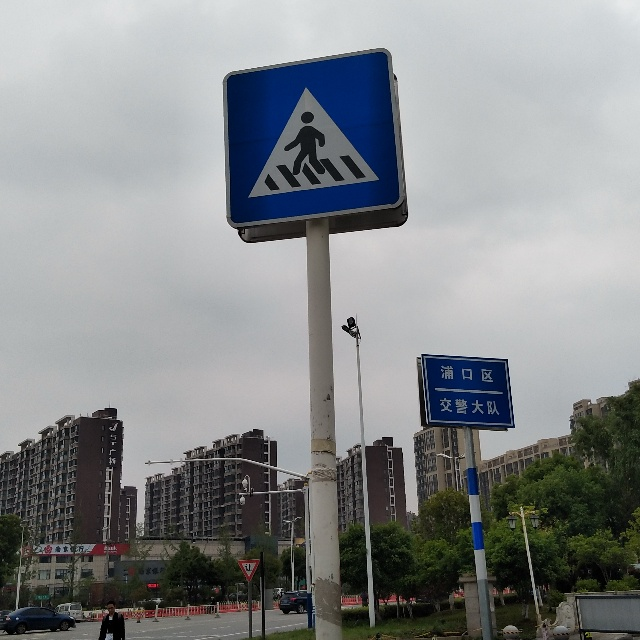crosswalk: (230, 70, 392, 211)
